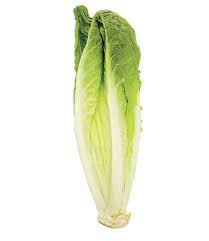lettuce: (70, 4, 138, 229)
